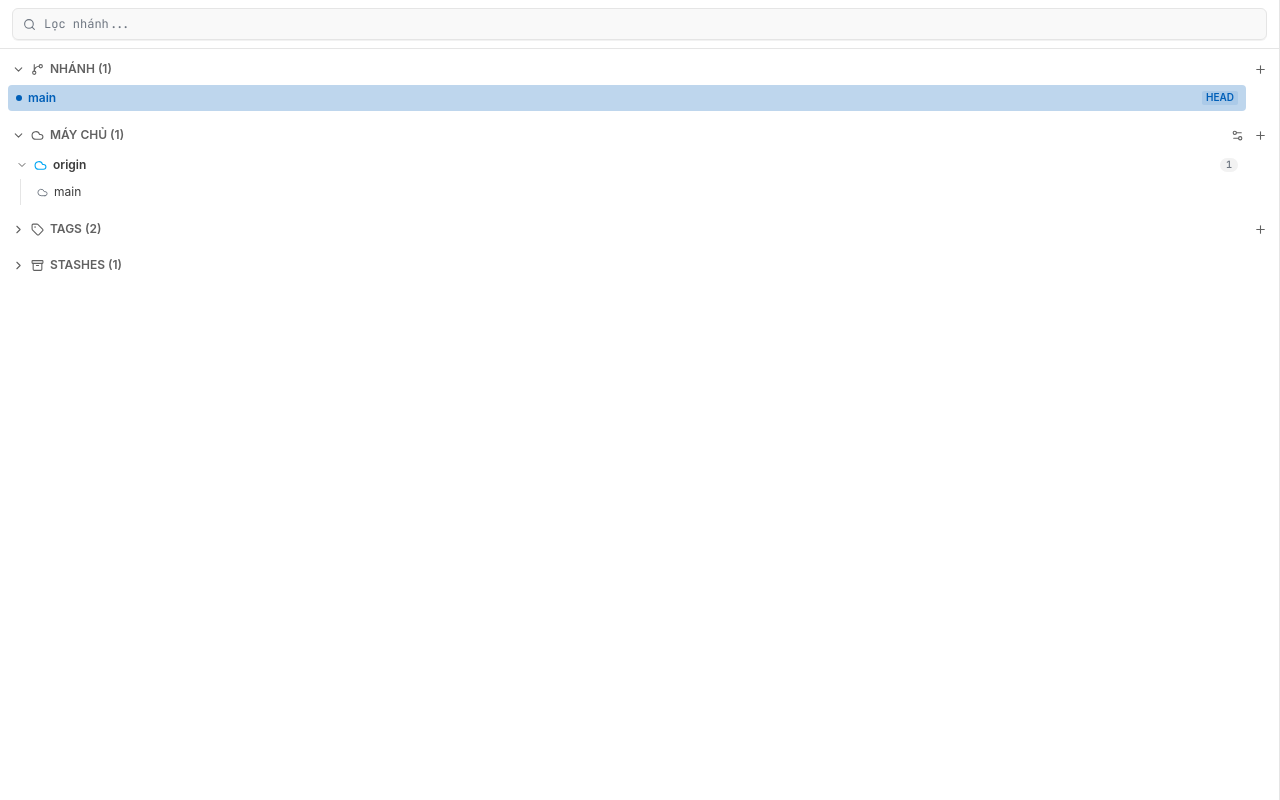
Test: BranchSidebar › ensures only 1 context menu is shown at any time
This screenshot has width=1280, height=800.
Note: Open remote context menu on origin
Right-click the text "origin" at (70, 165), box [53, 157, 86, 173]
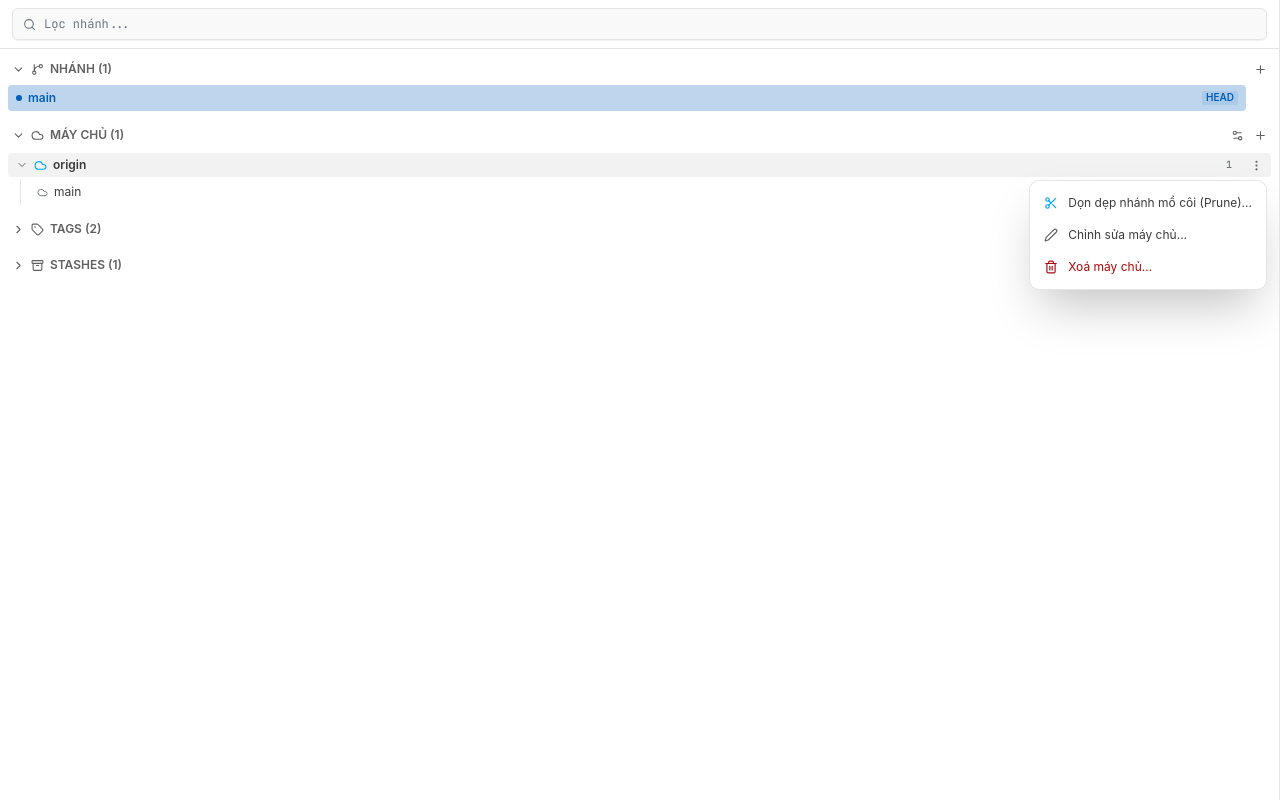
Result: the text "Dọn dẹp nhánh mồ côi (Prune)..." is shown at [1068, 194, 1252, 210]
Right-click the 1st text "main" at (42, 98), box [28, 90, 56, 106]
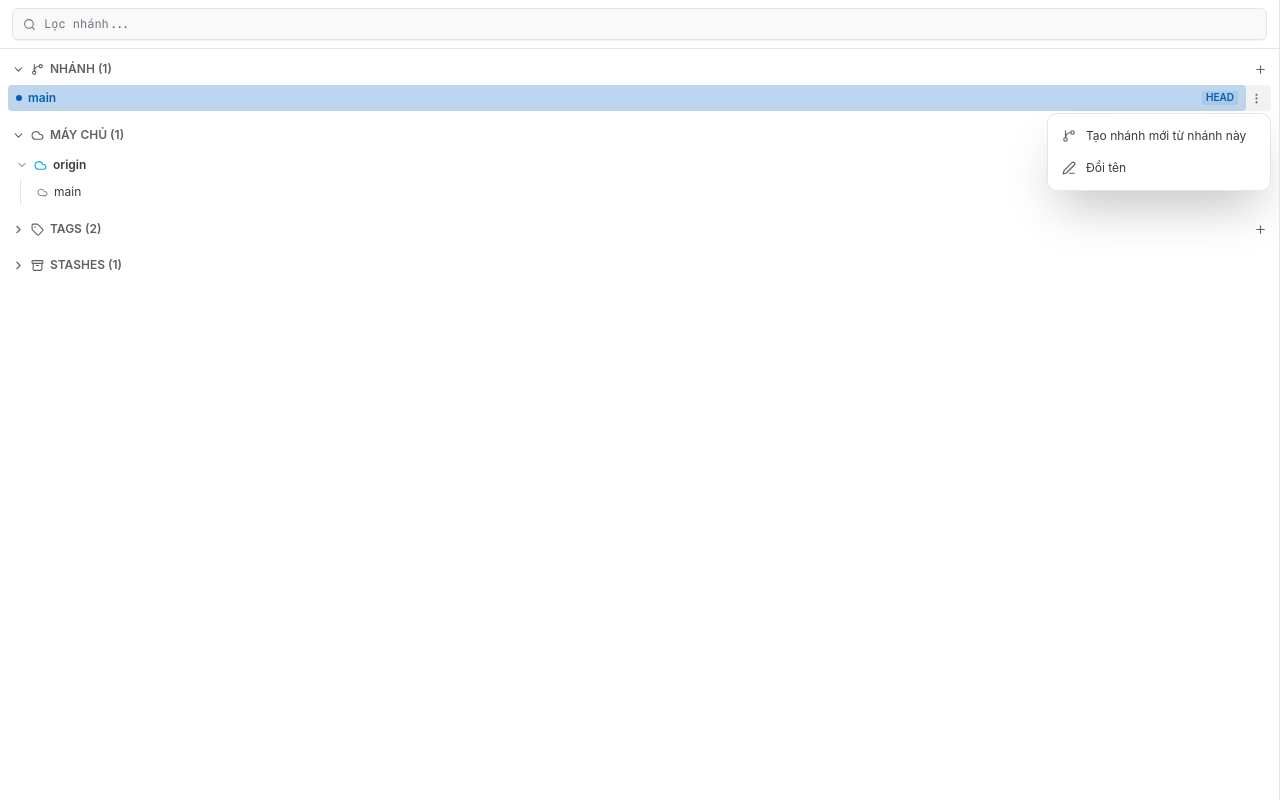
Result: the text "Đổi tên" is shown at [1086, 160, 1126, 176]
Result: the button "Dọn dẹp nhánh mồ côi" is gone
Note: Press Escape key to close the menu
Press Escape
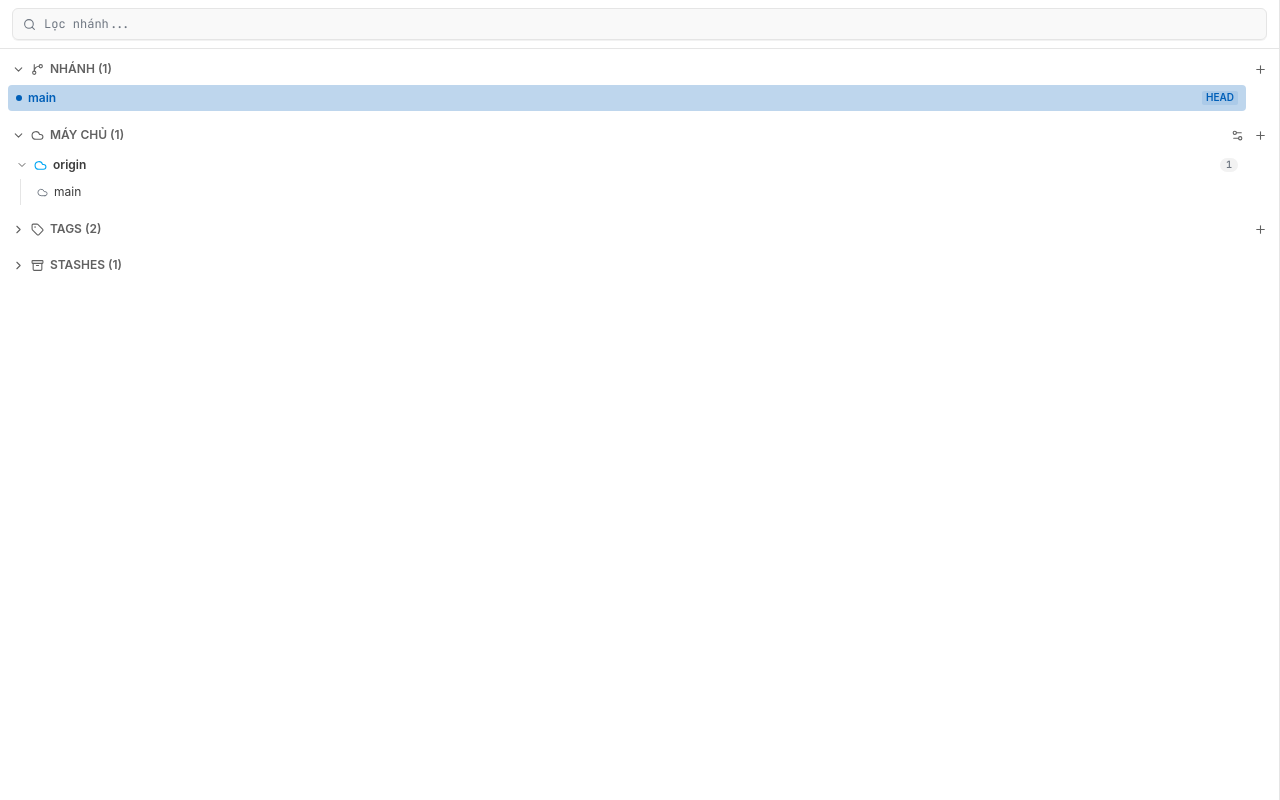
Result: the button "Đổi tên" is gone
